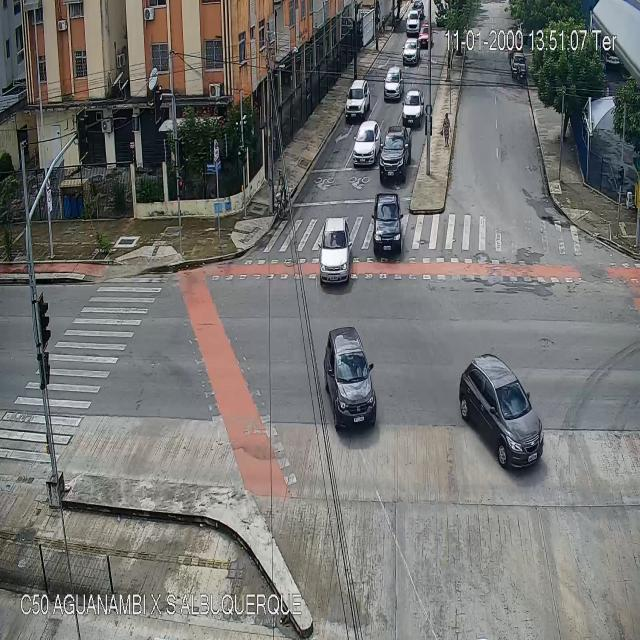Car: (461, 354, 546, 470), (324, 327, 377, 432), (318, 218, 352, 285), (372, 191, 403, 259), (379, 126, 410, 182), (352, 121, 381, 165), (345, 80, 370, 122), (402, 89, 423, 127), (384, 64, 402, 99), (402, 38, 419, 68), (407, 11, 419, 40), (512, 52, 525, 76), (419, 24, 432, 47)
Motorcycle: (516, 64, 522, 87)
